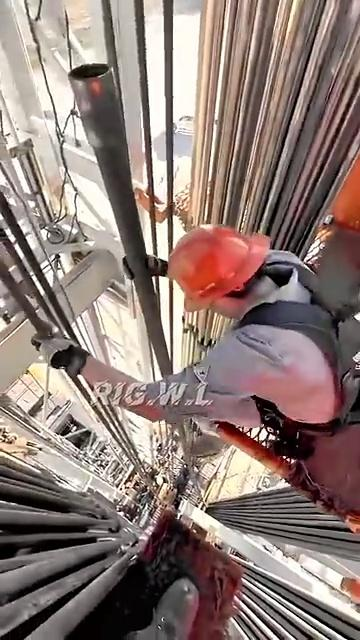gloves: (8, 323, 105, 380)
helmet: (152, 223, 253, 295)
worker: (62, 208, 342, 522)
